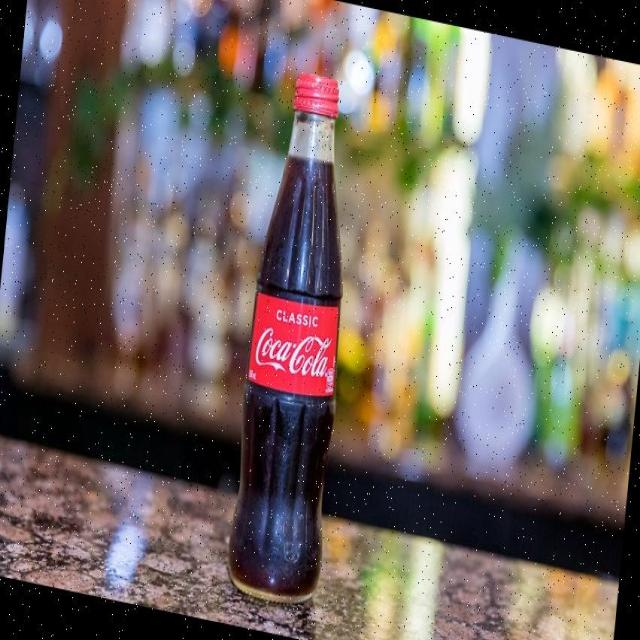coca-cola: (225, 60, 375, 613)
